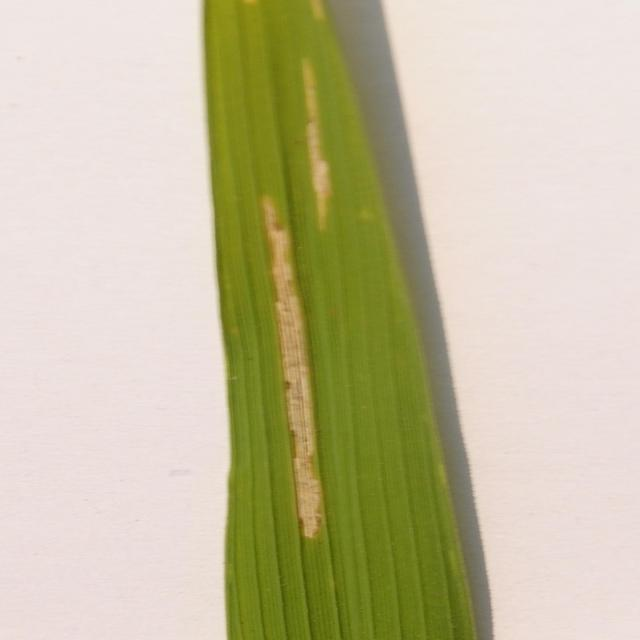leaf blight: (247, 46, 369, 535)
